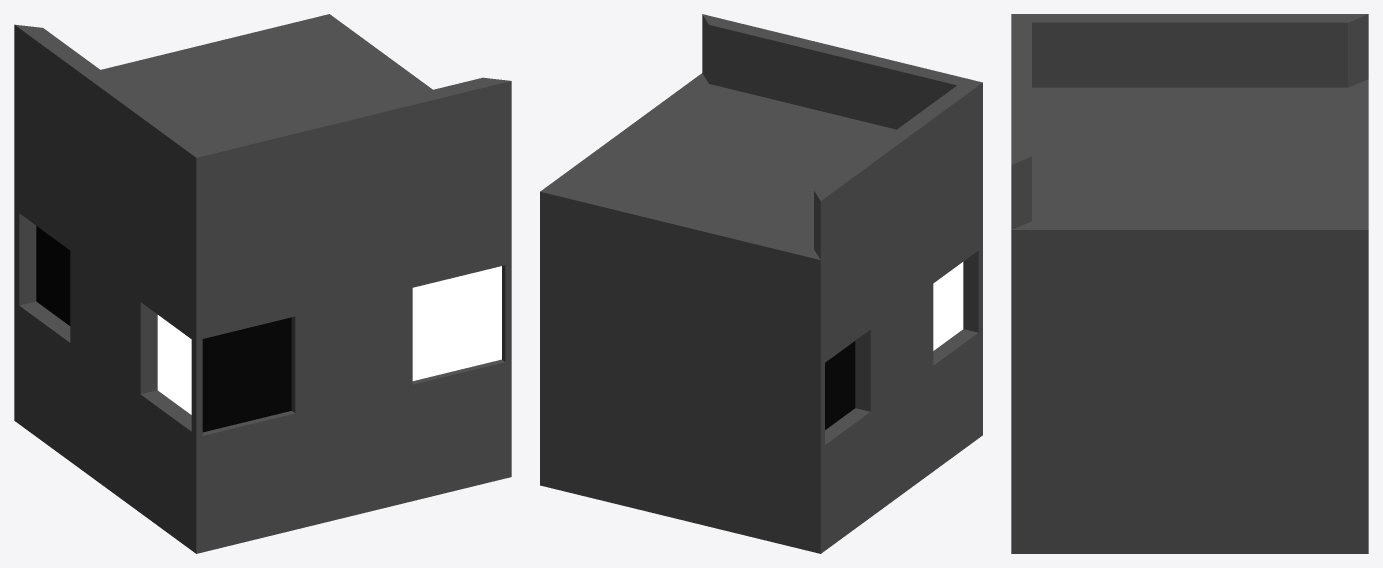
The model's file is petithautCote.fbx.
The picture shows the model from 3 angles, left to right: view 1: azimuth 30°, elevation 25°; view 2: azimuth 150°, elevation 25°; view 3: azimuth 270°, elevation 25°; orthographic projection. The views are drawn at different scales.
Visible parts, largest first — view 1: Cube.137; view 2: Cube.137; view 3: Cube.137.
Boxes of the visible parts, bbox=[...] form: Cube.137: bbox=[14, 14, 511, 553]; Cube.137: bbox=[540, 14, 982, 553]; Cube.137: bbox=[1011, 14, 1368, 553].
Bounding box in the file's own units: 2000 × 2402 × 2000.
